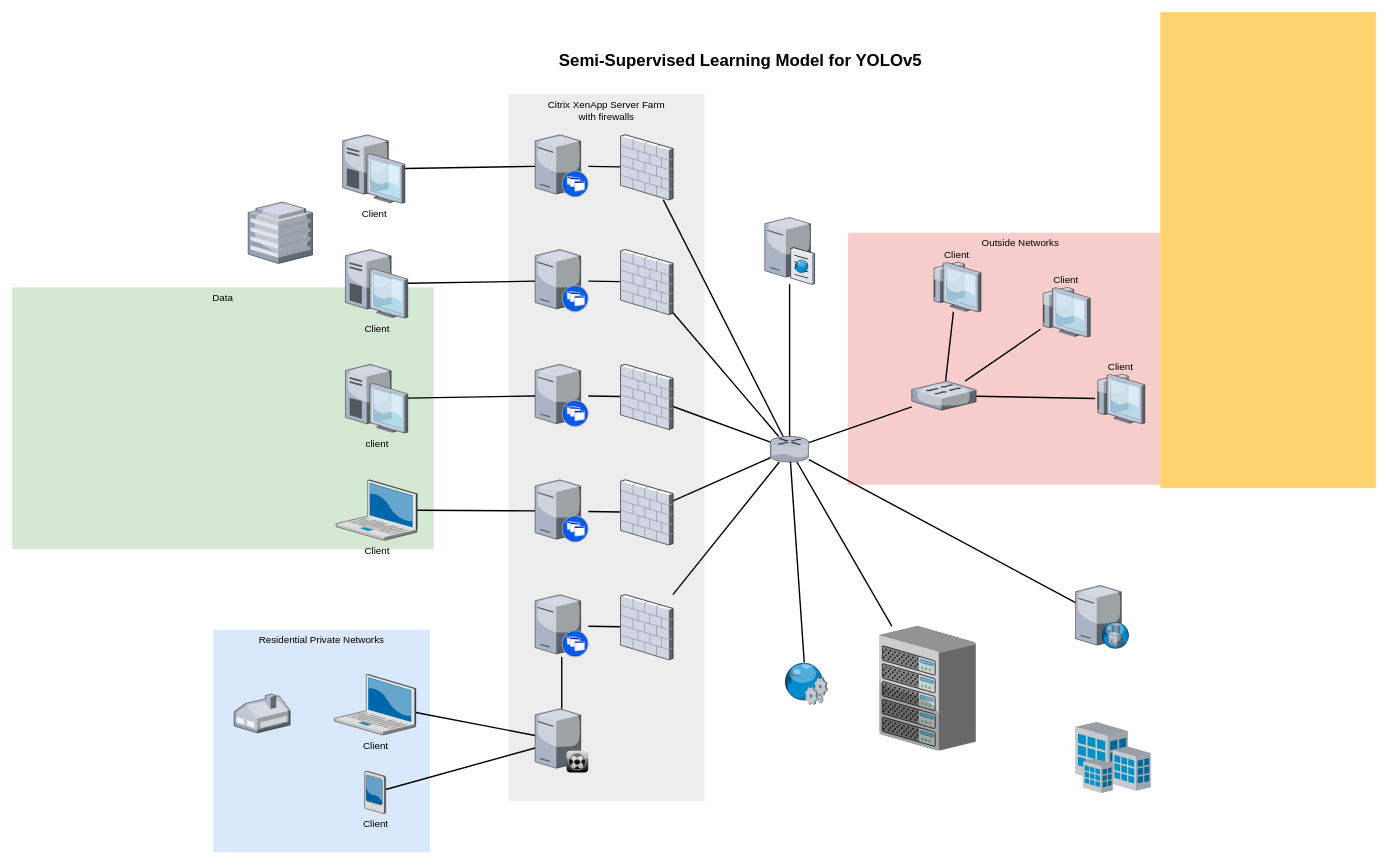
The diagram is 1387 pixels wide and 865 high, and some of its shapes have lost their labels. The centre of each missing label's shape, as x and y in pixels:
"DNS" goes at point (927, 688).
"Enterprise Networks" goes at point (1268, 250).
"Secure Server" goes at point (1102, 616).
"Web Server" goes at point (789, 250).
"Web service" goes at point (805, 683).
